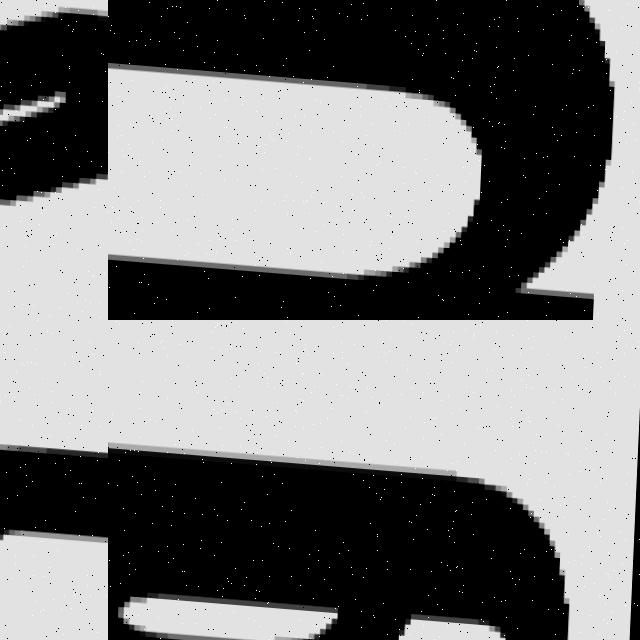A: (108, 411, 593, 640)
H: (0, 5, 108, 197)
J: (0, 424, 108, 635)
N: (108, 0, 633, 320)
